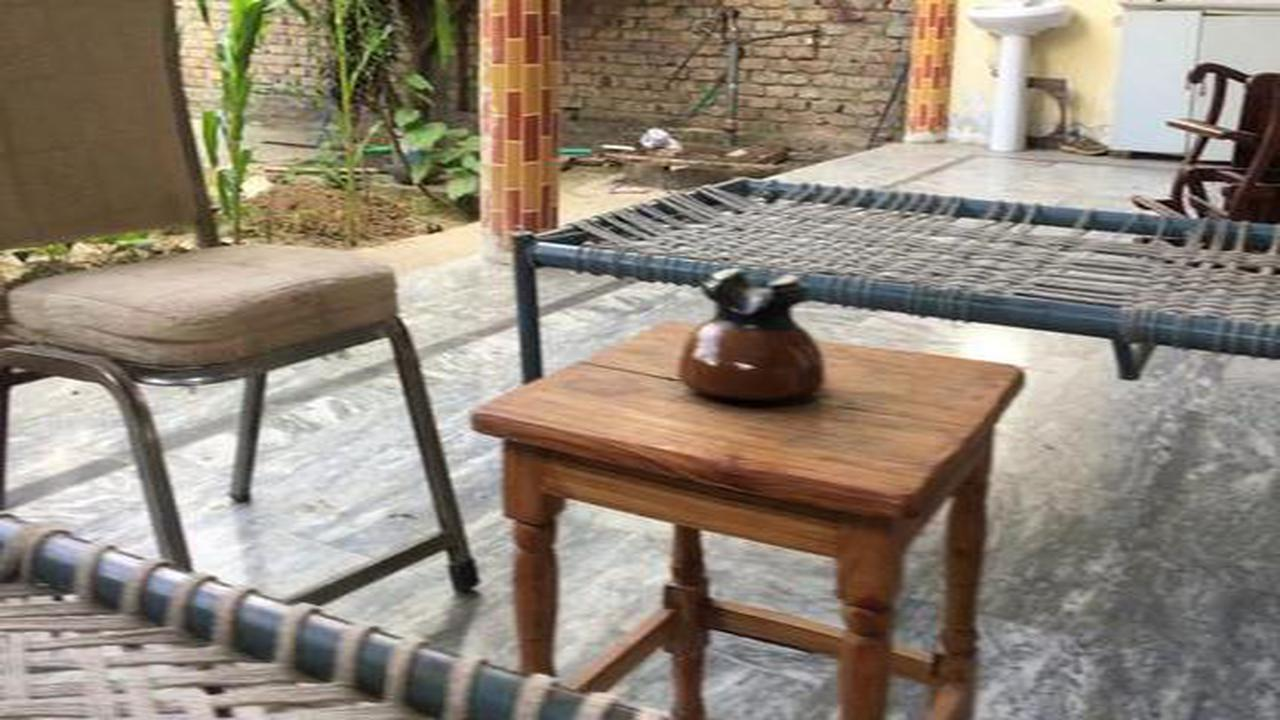insulator_pin: (656, 248, 850, 426)
